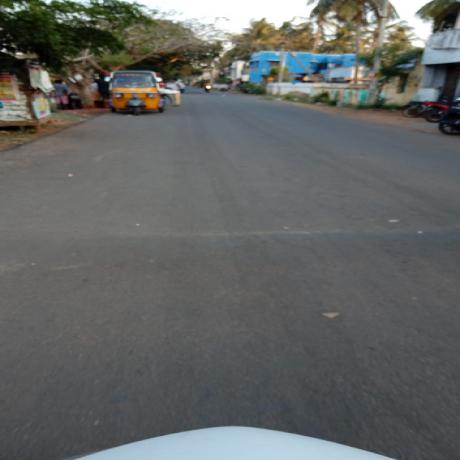Speed Bump: (0, 224, 459, 259)
